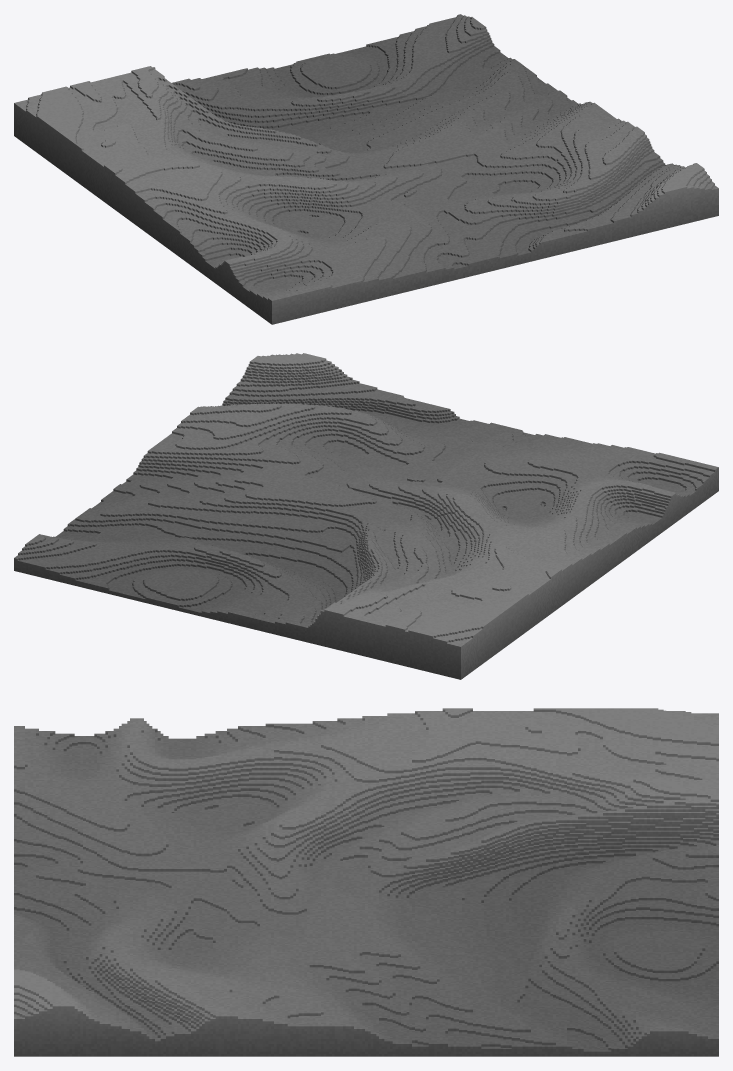
Rendered from LunaGrande-10.obj.
3 views of the same model, one above another, from view 1: azimuth 30°, elevation 25°; view 2: azimuth 150°, elevation 25°; view 3: azimuth 270°, elevation 25° (orthographic). The views are drawn at different scales.
Bounding box in the file's own units: 25.5 × 2 × 25.5.
Materials: 1 (1 with a texture image).
